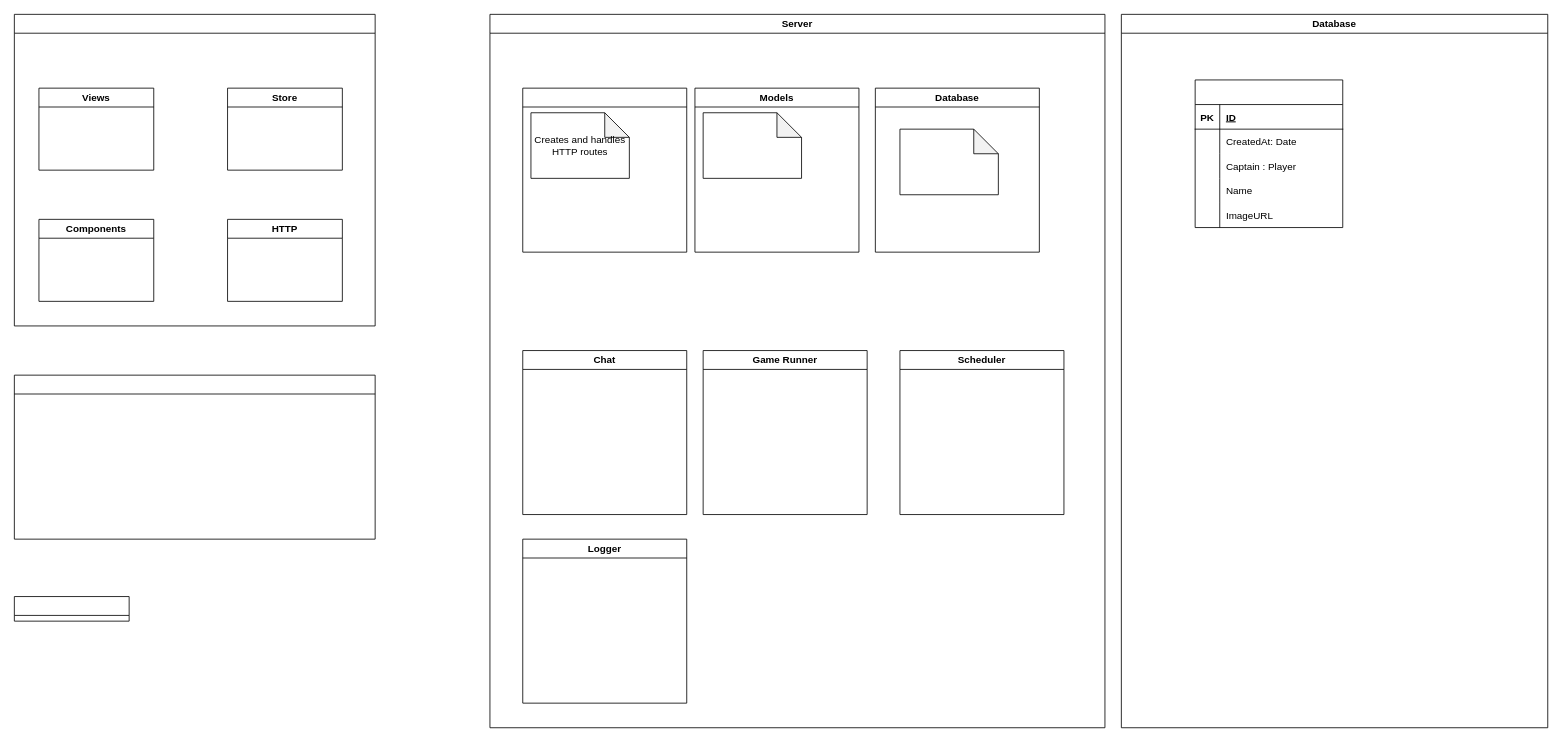
Some shapes in this 1562 by 742 pixel diagram are drawn without their labels. The shapes that lost their labels are listed below. From the top down, each one's box as (x1, y1, x2, y2) in pixels, then its label:
(702, 112, 802, 178): Definition of data structures that span all tiers of the application
(899, 128, 998, 195): Responsible for connecting, CRUD operations, and monitoring database health
(1194, 79, 1343, 228): Team
(14, 14, 375, 326): Web app
(522, 87, 687, 252): Router
(14, 374, 375, 539): Mobile apps
(14, 596, 129, 621): Score board app
